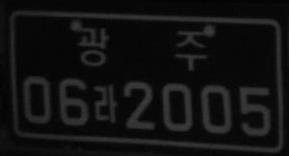0: (161, 82, 194, 132), (200, 84, 232, 134), (23, 75, 52, 123)
2: (123, 81, 156, 131)
5: (238, 86, 271, 137)
6: (59, 78, 89, 125)
광주_D: (77, 25, 207, 70)
라: (93, 83, 117, 123)
